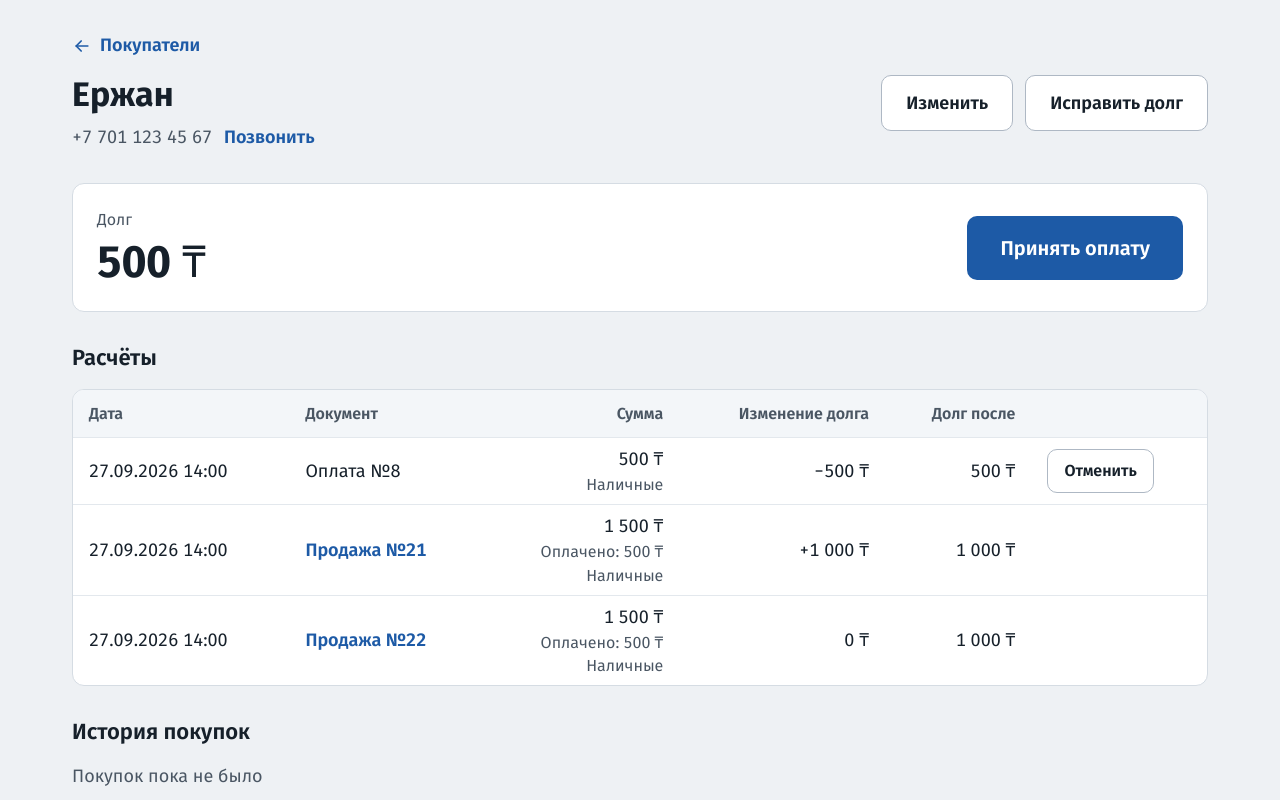
CustomerPage debt and ledger › shows signed changes, links sales, and cancels a payment using the selected reason
The width and height of the screenshot is (1280, 800).
Check: the column heading named "Отменить" is shown, box x1=1031 y1=390 x2=1207 y2=438
Check: the text "−500 ₸" is shown, box x1=679 y1=438 x2=885 y2=505
Click the button "Отменить" at (1101, 471), box x1=1047 y1=449 x2=1154 y2=493
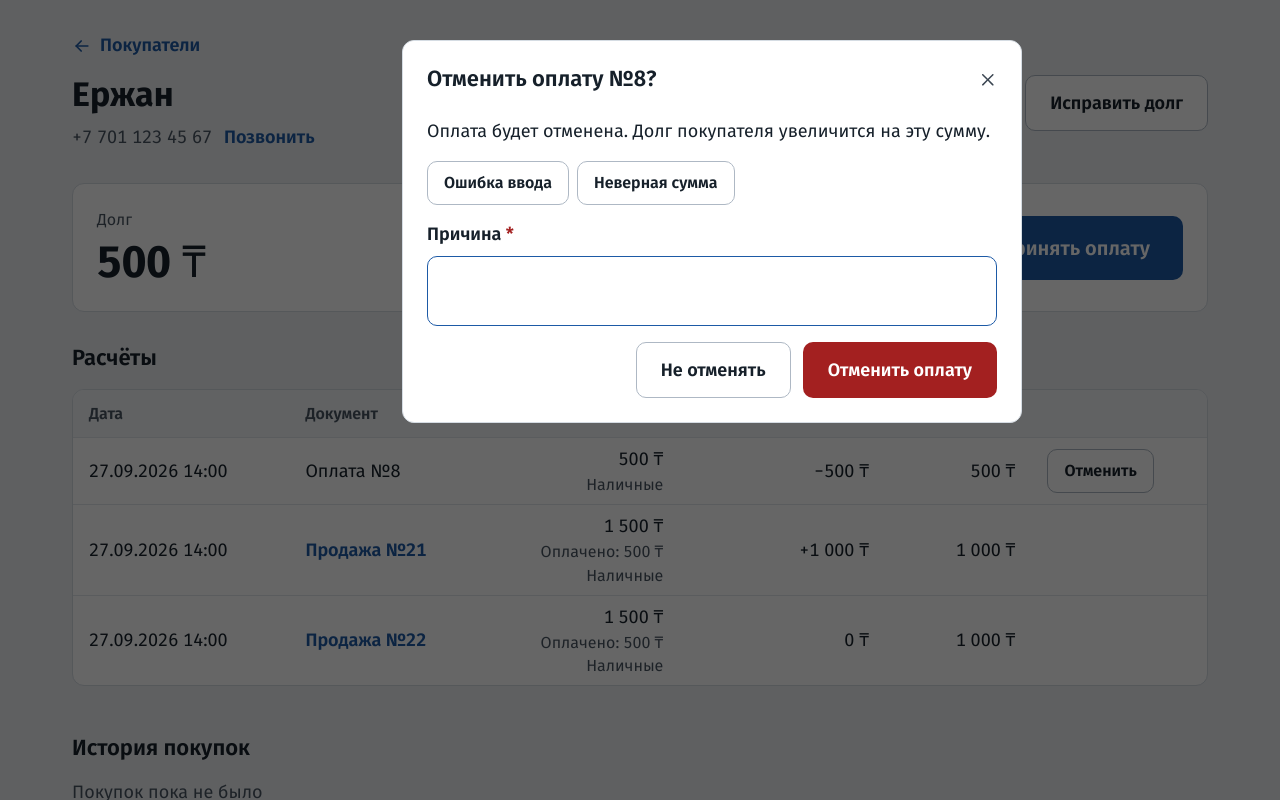
Click the button "Неверная сумма" at (656, 183), box x1=577 y1=161 x2=735 y2=205
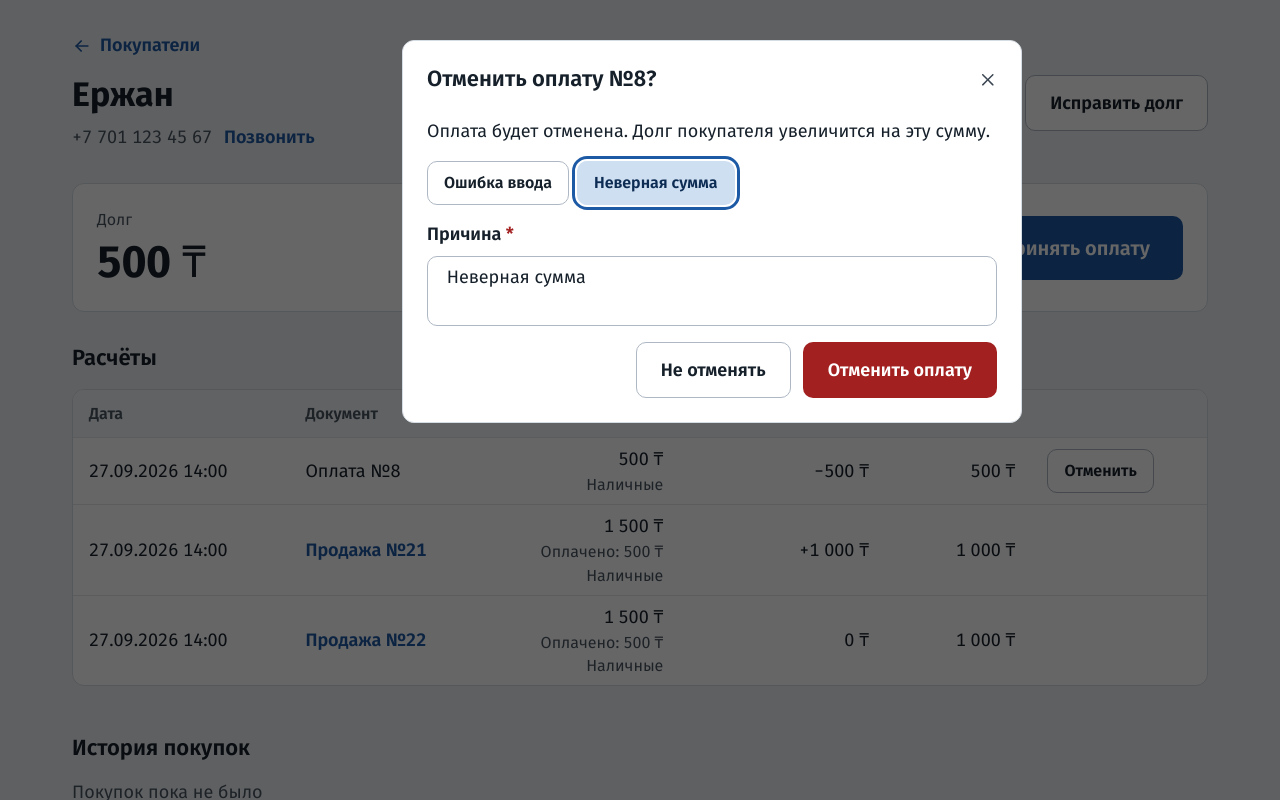
Click the button "Отменить оплату" at (900, 370), box x1=803 y1=342 x2=997 y2=398
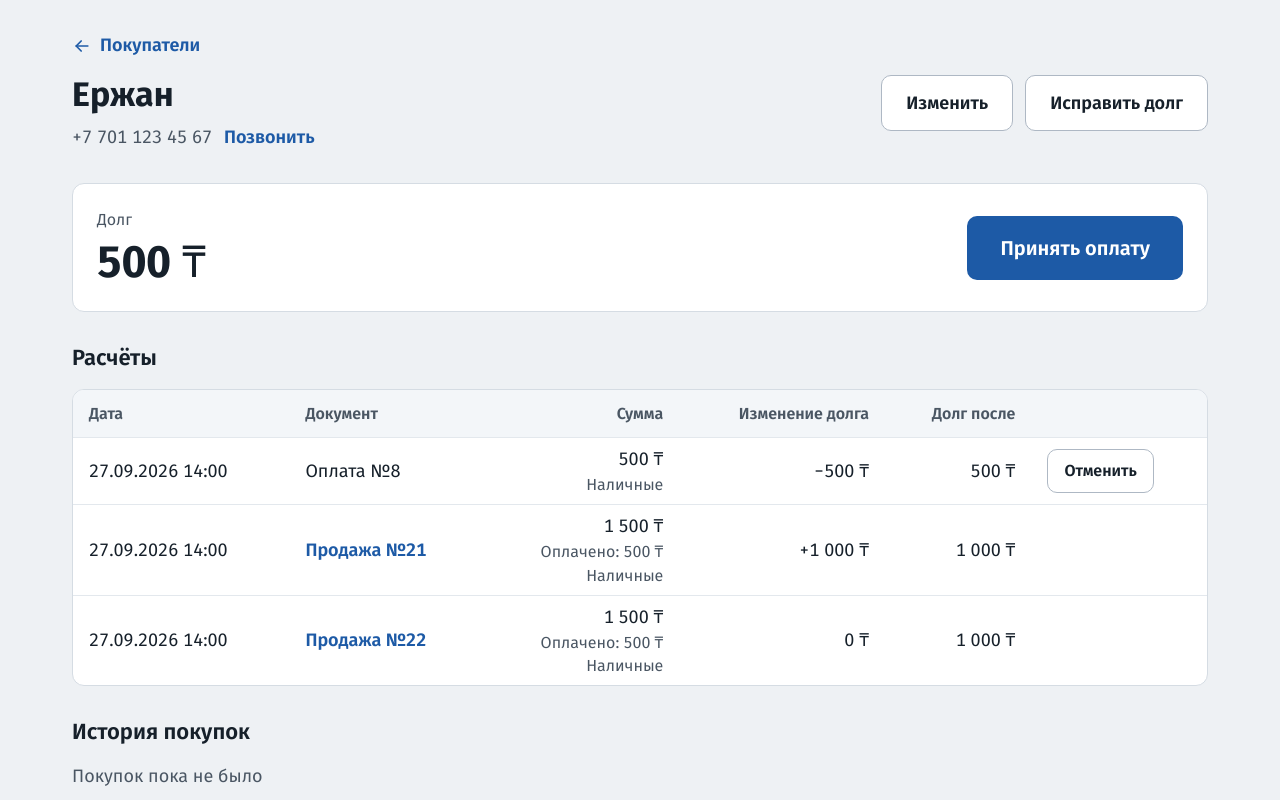
Check: the dialog is gone
